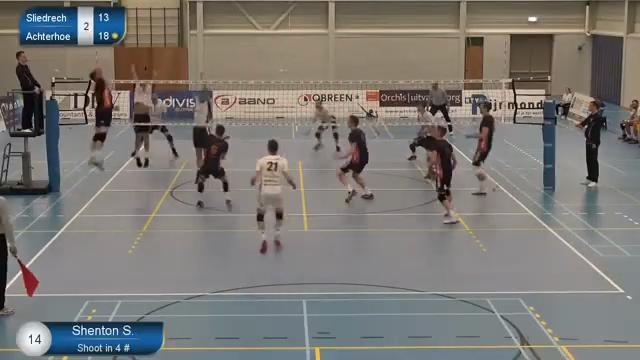Attack: (78, 58, 114, 173)
Block: (180, 68, 217, 185), (126, 61, 157, 169)
Player: (251, 139, 295, 253), (337, 115, 373, 202), (196, 124, 230, 206), (430, 126, 458, 223), (472, 102, 494, 194), (408, 103, 435, 160), (313, 101, 340, 152), (150, 125, 178, 157)
